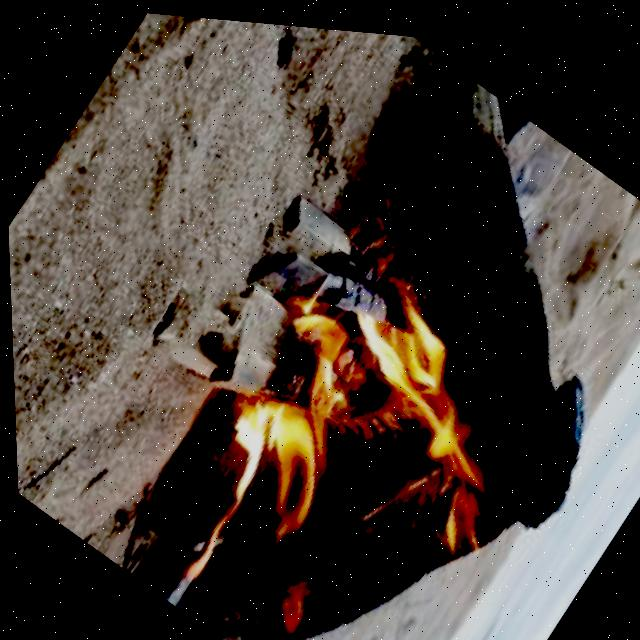Fire: (120, 215, 588, 640)
